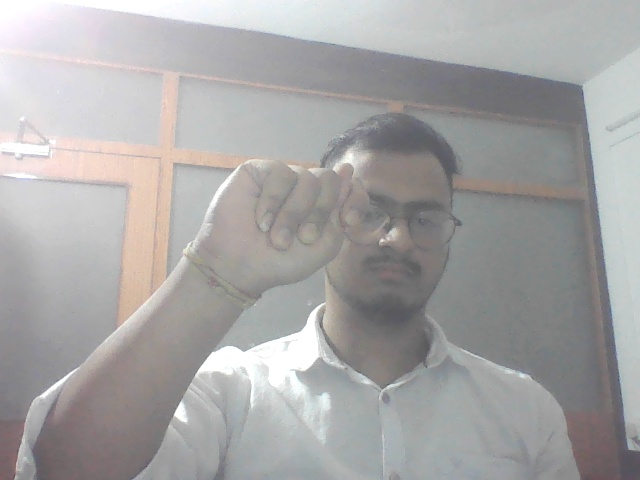Toilet: (194, 152, 380, 305)
